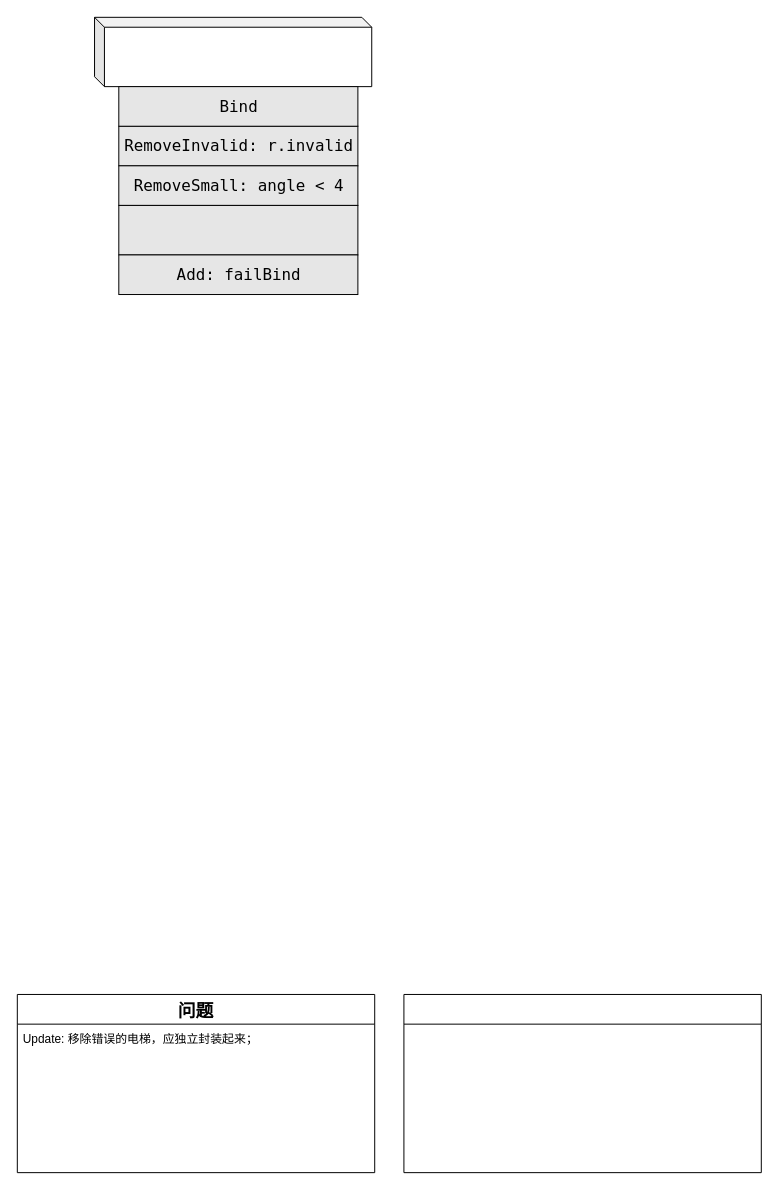
Image size: 779x1190. Some labels were removed from this diagram. The centre of each missing label's shape, as x and y in pixels:
# Update: (x=233, y=51)
TODO: (x=582, y=1083)
UpdateRegion : mustUpdate, dummy...: (x=238, y=229)
